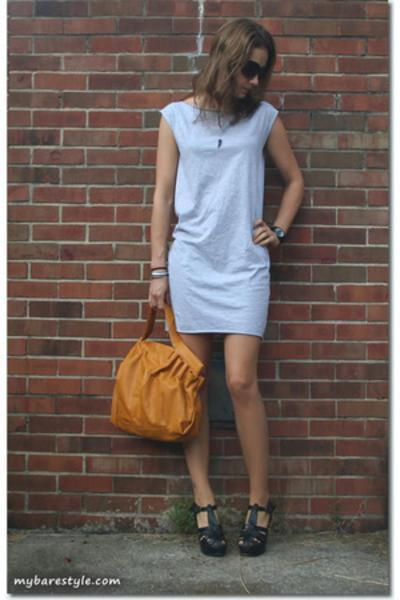bag: (109, 337, 202, 439)
dress: (160, 96, 278, 335)
shoe: (197, 502, 267, 529)
